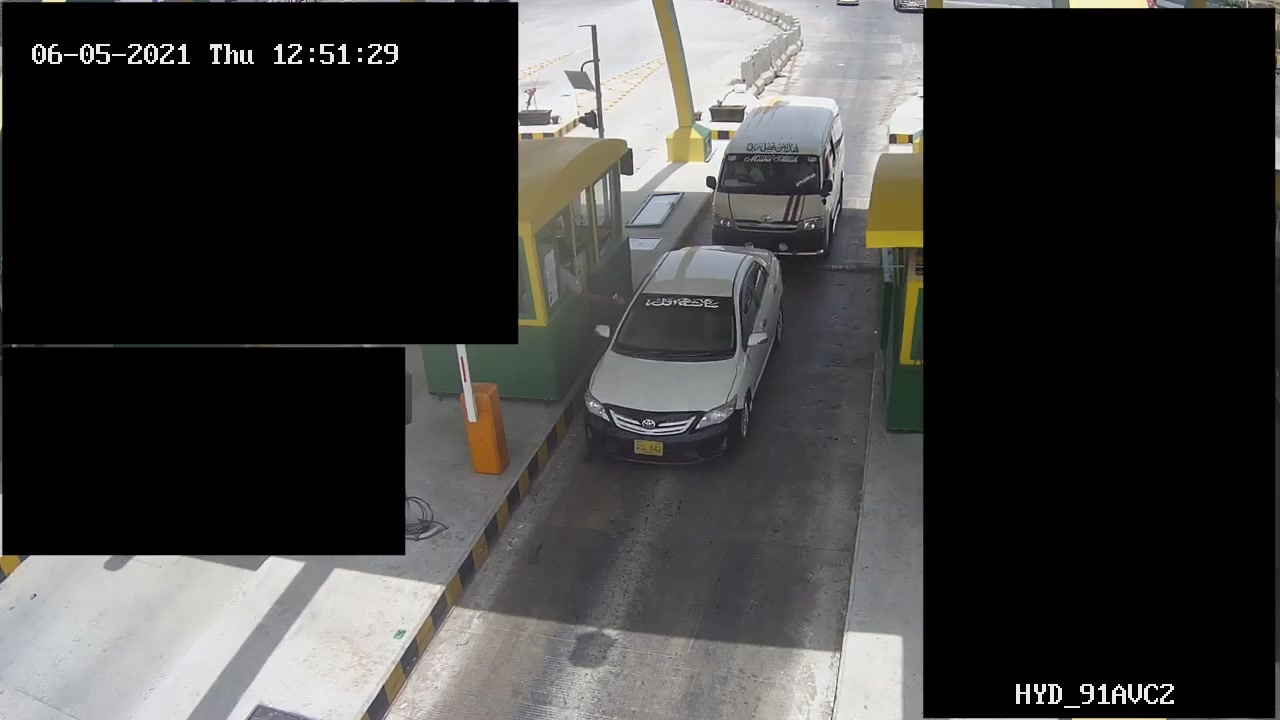F1: (571, 235, 786, 460)
F2: (708, 92, 846, 259)
